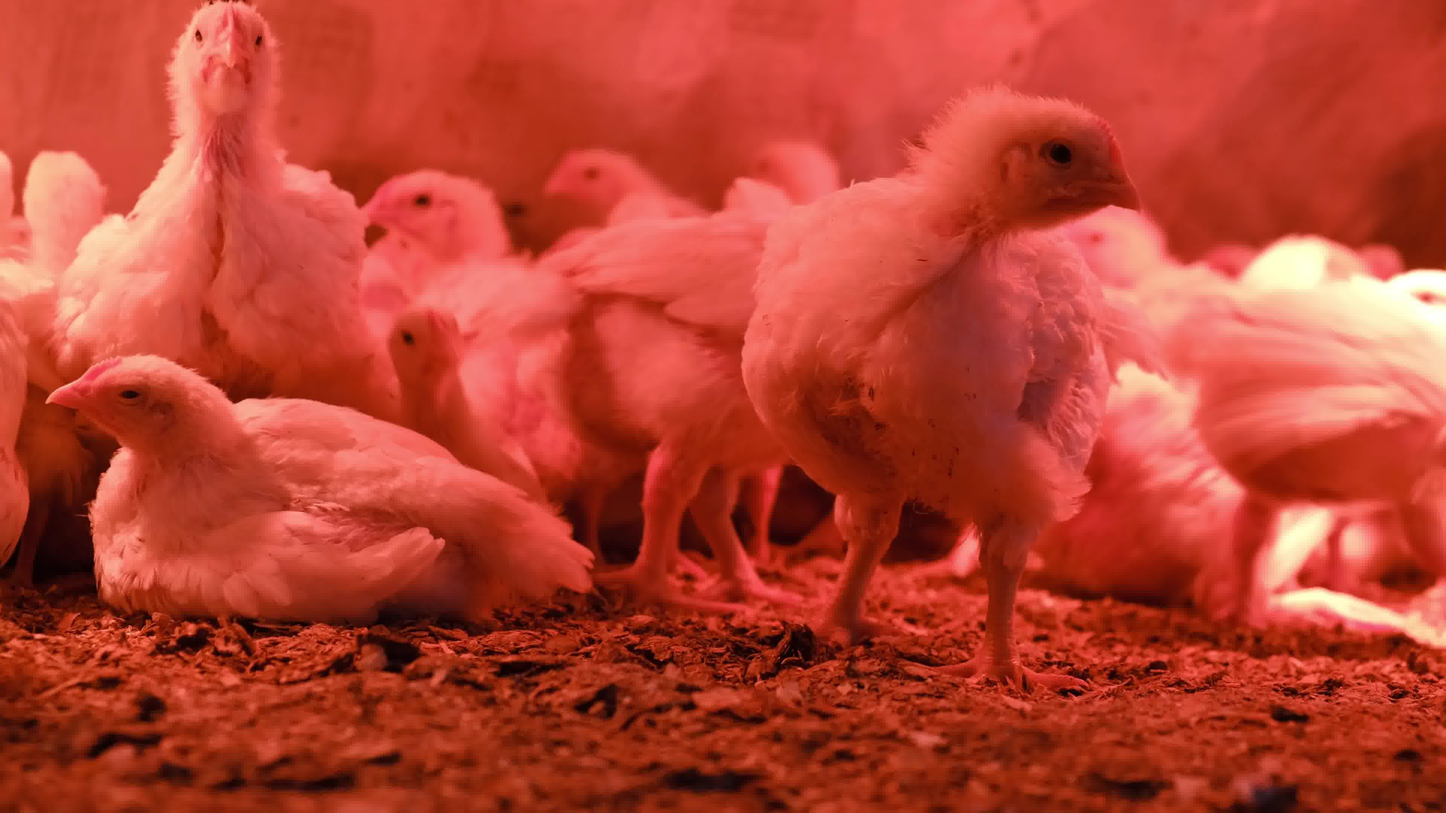AbNormal: (26, 344, 580, 615)
Normal: (742, 90, 1175, 679), (540, 190, 779, 595), (102, 0, 371, 354), (1171, 275, 1446, 606), (378, 299, 546, 470), (367, 160, 520, 273), (2, 132, 122, 250), (544, 141, 667, 220)
